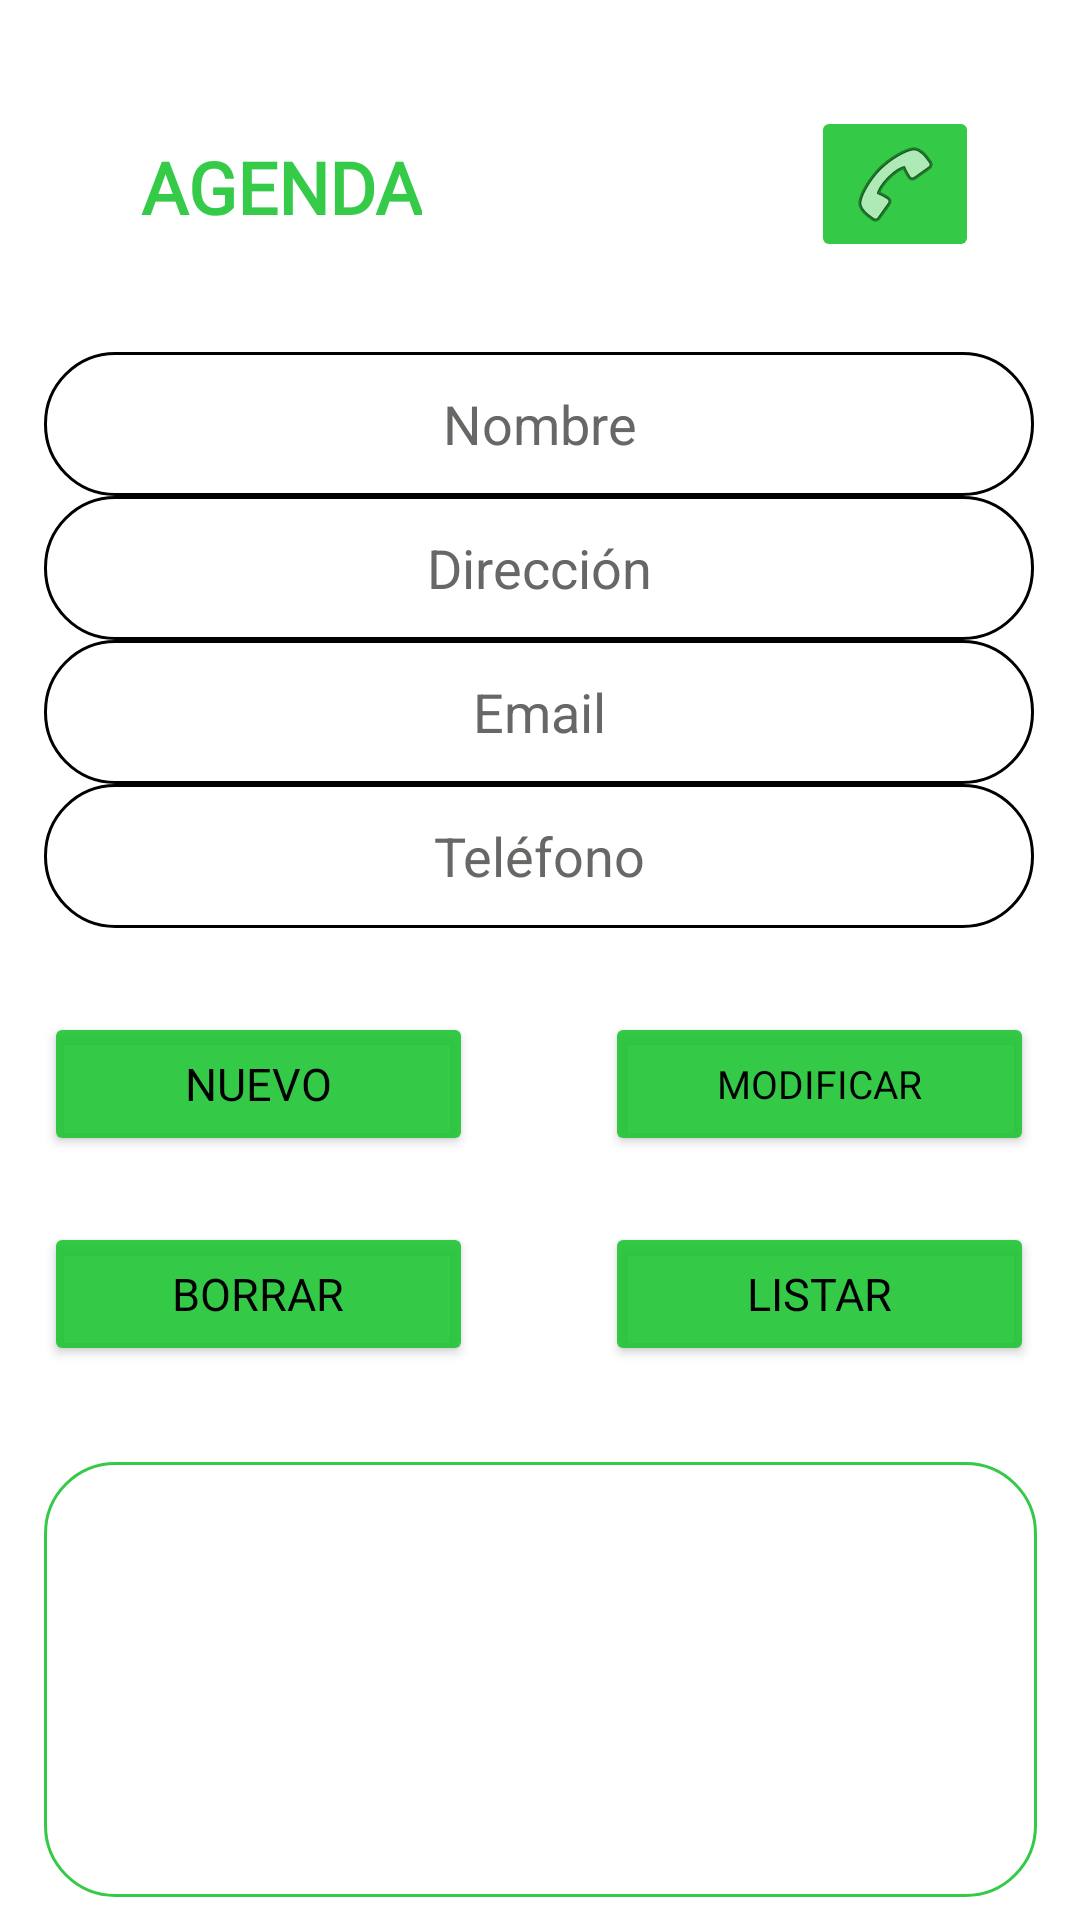

Icons on this 1080*1920 Android screen, each with its box as (x1, y1, x2, y2):
Llamada: (823, 124, 967, 244)
